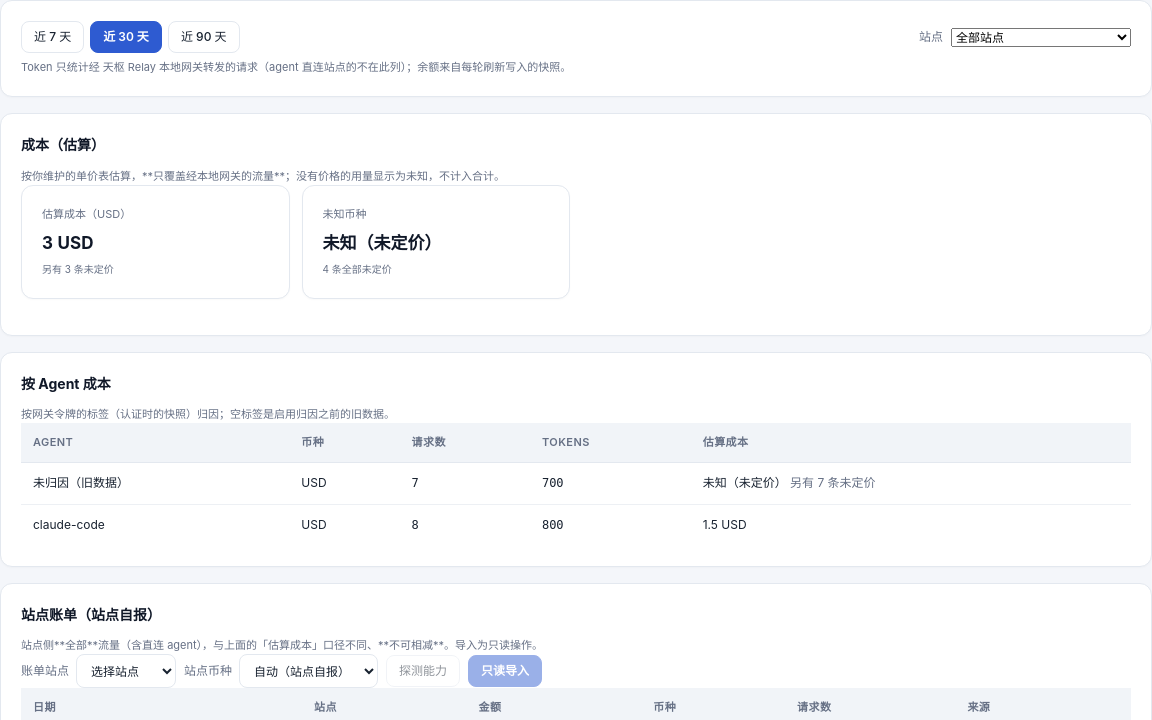
Test: Cost › B-230：导入 partial 时必须警告只导入了最近 N 页
Expected: the heading "站点账单（站点自报）" is shown, [21,606,161,623]
Select "Alpha" in the dropdown labelled "账单站点" at (126, 671), box [76,654,176,688]
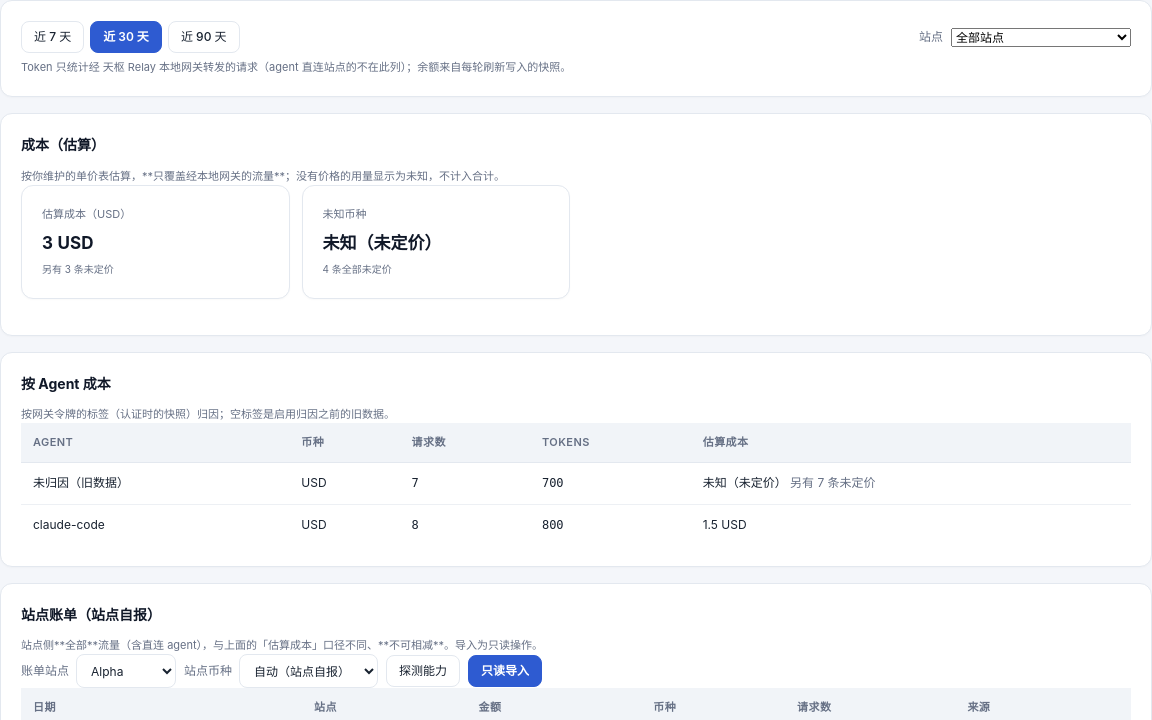
Click the button "只读导入" at (505, 671), box [468,655,542,687]
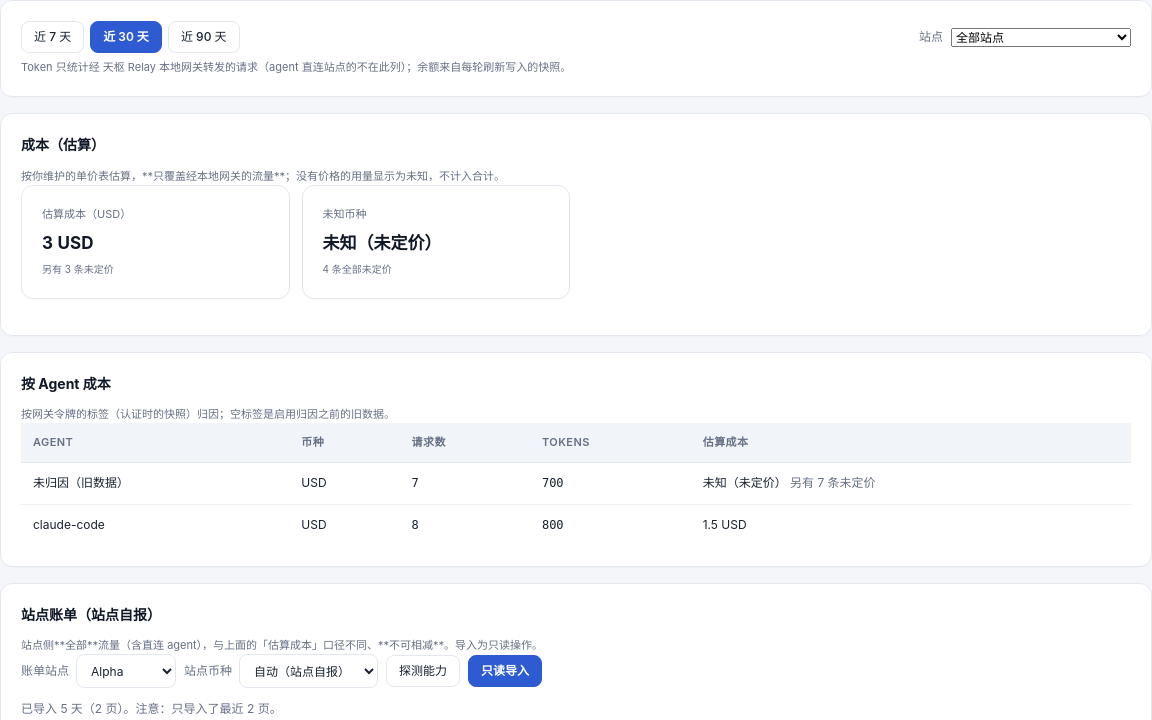
Now the text "已导入 5 天（2 页）。注意：只导入了最近 2 页。" is shown, box [21,701,282,716]
